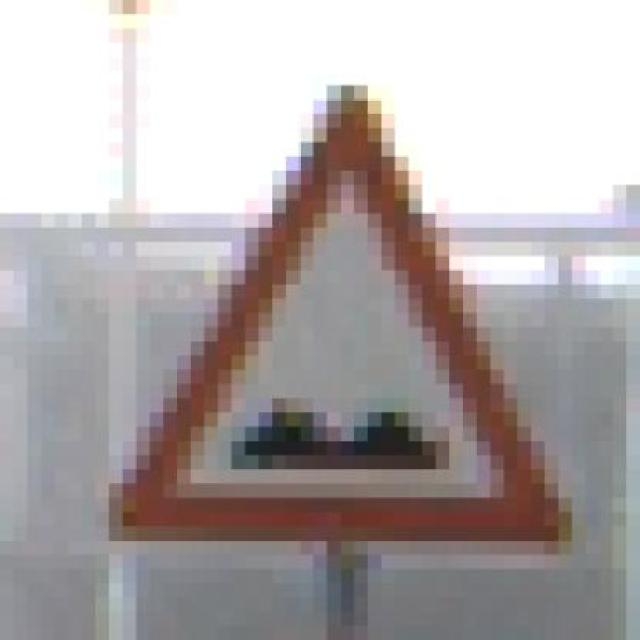Uneven Road: (109, 71, 586, 555)
